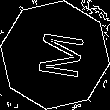M_W: (26, 28, 84, 82)
